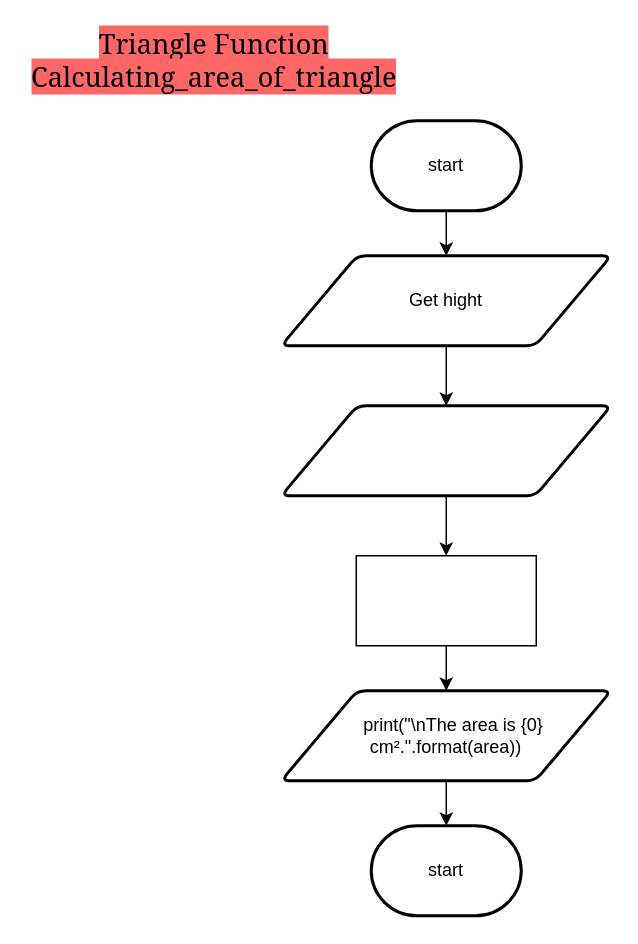
Some shapes in this 638 by 944 pixel diagram are drawn without their labels. Each missing label, with the box of its shape:
area = (base * height) / 2: (355, 554, 536, 646)
Get base: (279, 404, 612, 496)
